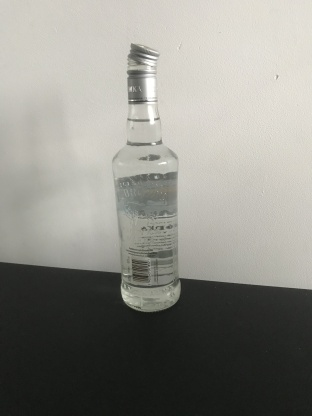nakretka: (125, 40, 161, 105)
